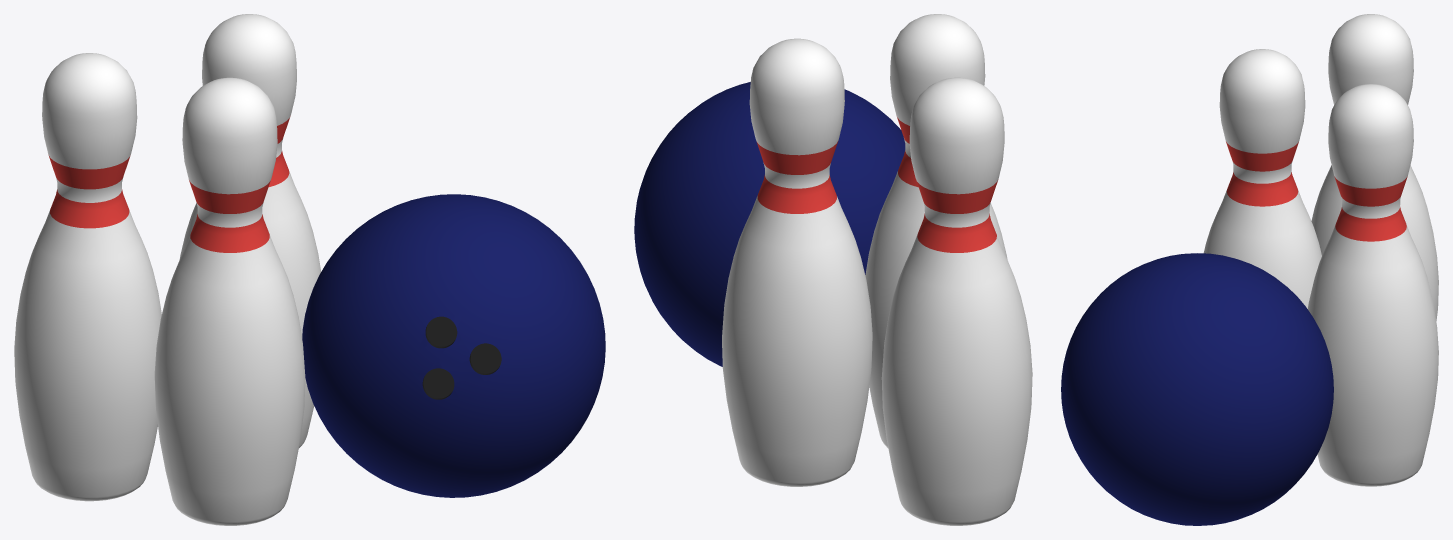
File: bowling.glb
The picture shows the model from 3 angles, left to right: view 1: azimuth 30°, elevation 25°; view 2: azimuth 150°, elevation 25°; view 3: azimuth 270°, elevation 25°; orthographic projection. The views are drawn at different scales.
Parts seen in each view (by area): view 1: Cube.816; view 2: Cube.816; view 3: Cube.816.
Part boxes in pixels (x1,y1,x2,y2): Cube.816: [14, 14, 605, 525]; Cube.816: [634, 14, 1032, 525]; Cube.816: [1061, 14, 1438, 525].
Bounding box in the file's own units: 2.41 × 2.09 × 1.89.
Materials: 1 (1 with a texture image).
